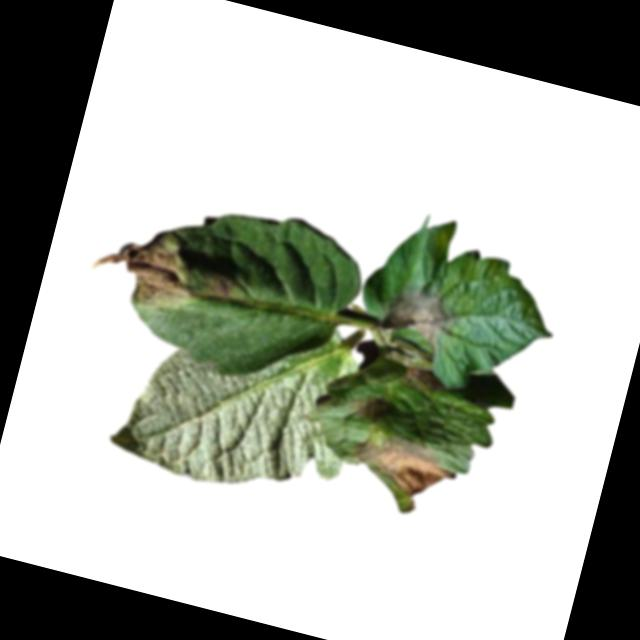Late_blight: (84, 214, 211, 322), (342, 425, 462, 507), (375, 274, 456, 352), (396, 364, 448, 399), (347, 389, 391, 425), (205, 271, 236, 301)
